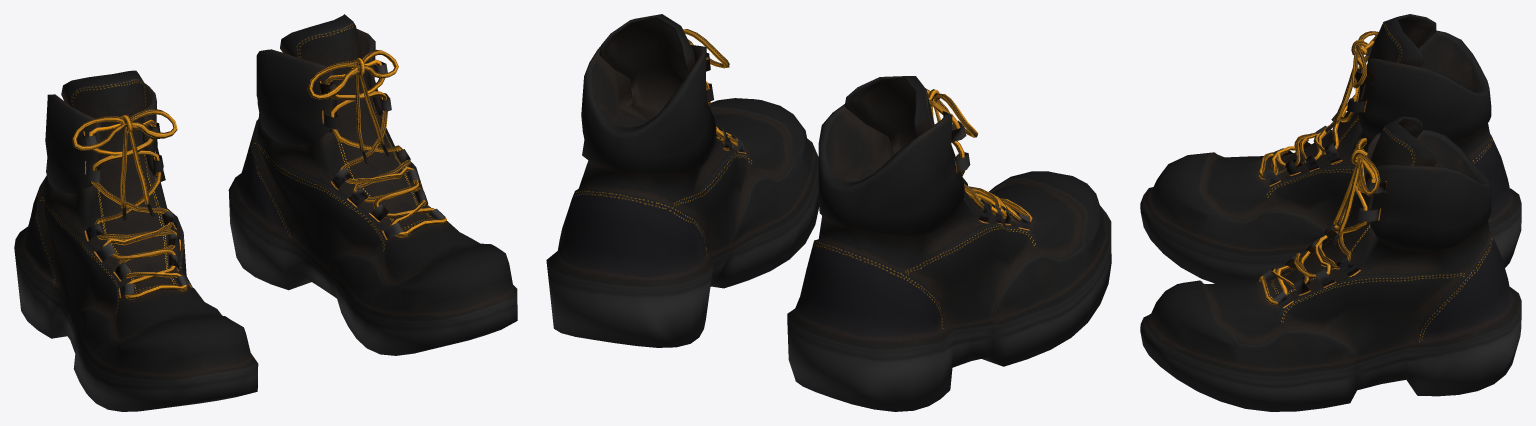
The model's file is Shoe.fbx.
3 views of the same model, side by side, from view 1: azimuth 30°, elevation 25°; view 2: azimuth 150°, elevation 25°; view 3: azimuth 270°, elevation 25° (orthographic). The views are drawn at different scales.
Parts seen in each view (by area): view 1: safety-shoes3_low.002_safety-shoes_0.001, safety-shoes3_low.001_safety-shoes_0.001; view 2: safety-shoes3_low.001_safety-shoes_0.001, safety-shoes3_low.002_safety-shoes_0.001; view 3: safety-shoes3_low.002_safety-shoes_0.001, safety-shoes3_low.001_safety-shoes_0.001.
Part boxes in pixels (bbox=[...]): safety-shoes3_low.002_safety-shoes_0.001: bbox=[228, 14, 517, 355]; safety-shoes3_low.001_safety-shoes_0.001: bbox=[14, 70, 258, 411]; safety-shoes3_low.001_safety-shoes_0.001: bbox=[787, 76, 1111, 411]; safety-shoes3_low.002_safety-shoes_0.001: bbox=[546, 14, 819, 347]; safety-shoes3_low.002_safety-shoes_0.001: bbox=[1140, 116, 1521, 411]; safety-shoes3_low.001_safety-shoes_0.001: bbox=[1140, 14, 1521, 283].
Size of the model in its own units: 24.55 by 15.78 by 21.52.
Materials: 1 (1 with a texture image).
